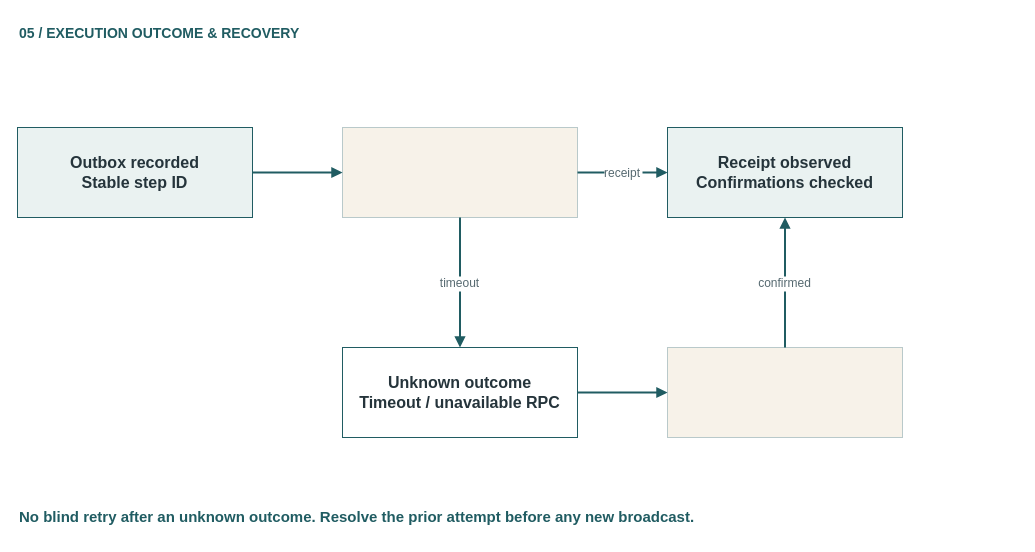
The diagram is 1035 pixels wide and 552 high, and some of its shapes have lost their labels. The shapes that lost their labels are listed below. From the top down, each one's centre as x and y in pixels, then its label:
At pixel 460 172: "Transaction submitted Hash persisted".
At pixel 784 392: "Reconcile chain state Receipt · nonce · effects".
